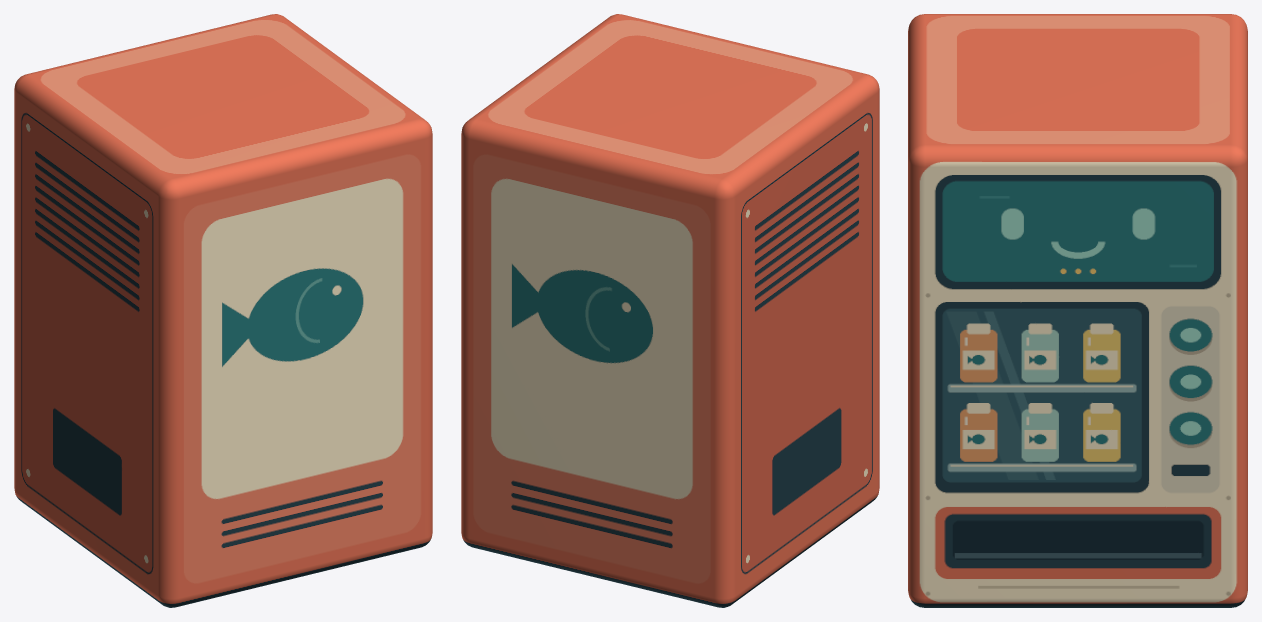
Rendered from SM_AIVendingMachine.fbx.
The picture shows the model from 3 angles, left to right: view 1: azimuth 30°, elevation 25°; view 2: azimuth 150°, elevation 25°; view 3: azimuth 270°, elevation 25°; orthographic projection. The views are drawn at different scales.
Parts seen in each view (by area): view 1: SM_AIVendingMachine; view 2: SM_AIVendingMachine; view 3: SM_AIVendingMachine.
Part boxes in pixels (x1,y1,x2,y2): SM_AIVendingMachine: (14, 14, 432, 607); SM_AIVendingMachine: (461, 14, 879, 607); SM_AIVendingMachine: (908, 14, 1247, 607).
Size of the model in its own units: 1 by 1 by 1.5.
1 material, 1 textured.
